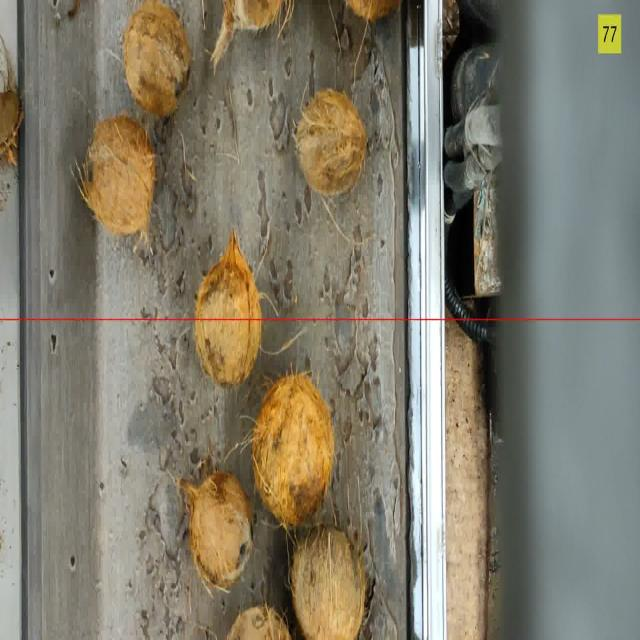Coconut-Conveyor-Belt: (252, 375, 334, 525), (196, 231, 261, 385), (290, 526, 366, 639), (178, 473, 252, 588), (85, 115, 154, 234), (123, 0, 190, 117), (295, 90, 366, 196), (211, 0, 292, 68), (0, 37, 23, 165), (228, 606, 290, 639), (0, 91, 23, 165), (347, 0, 401, 20)
